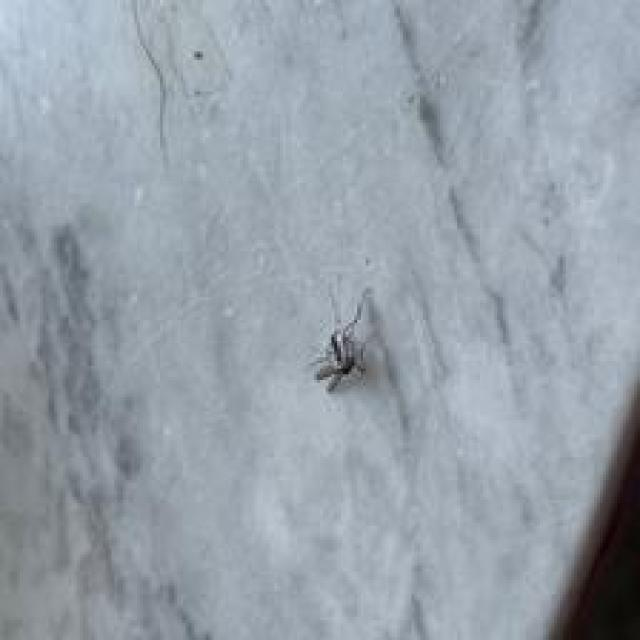Aedes albopictus: (308, 289, 372, 394)
